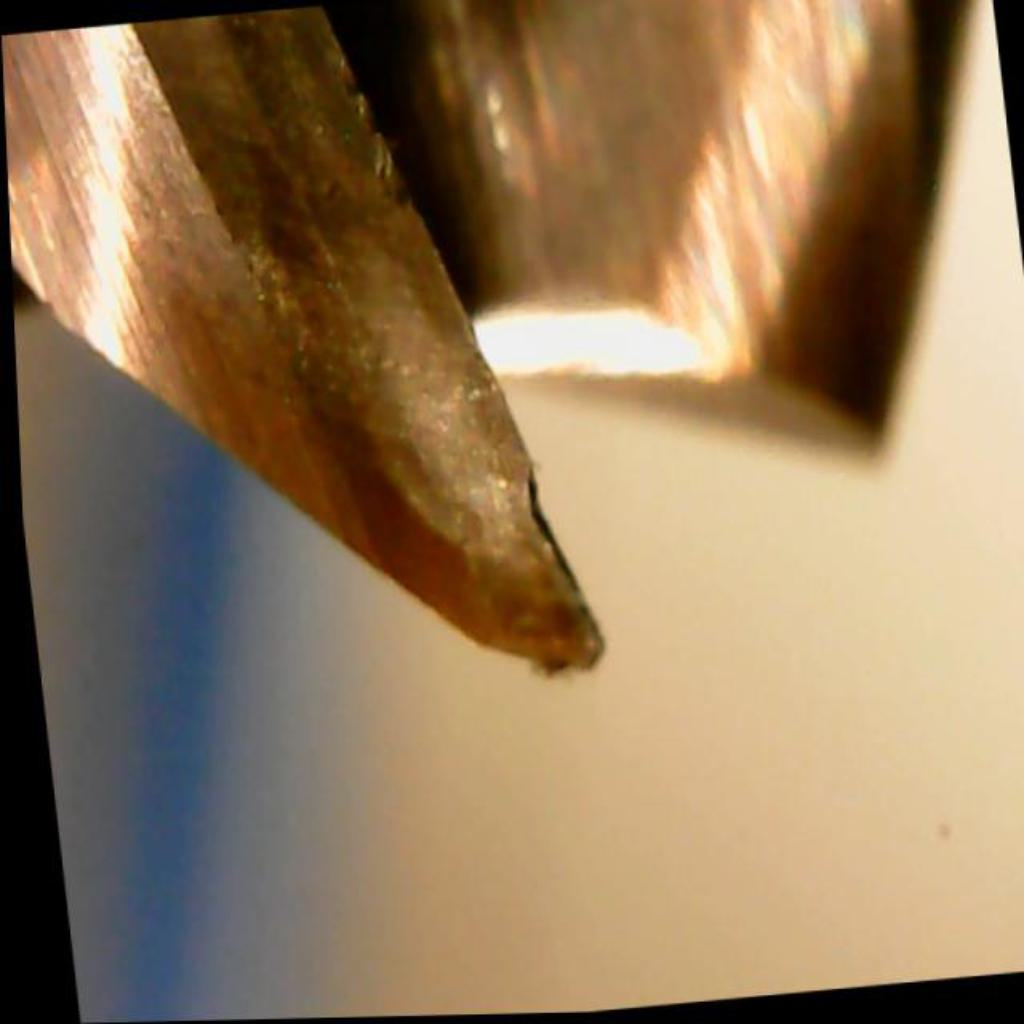Tool-wear-class-1: (301, 309, 638, 714)
